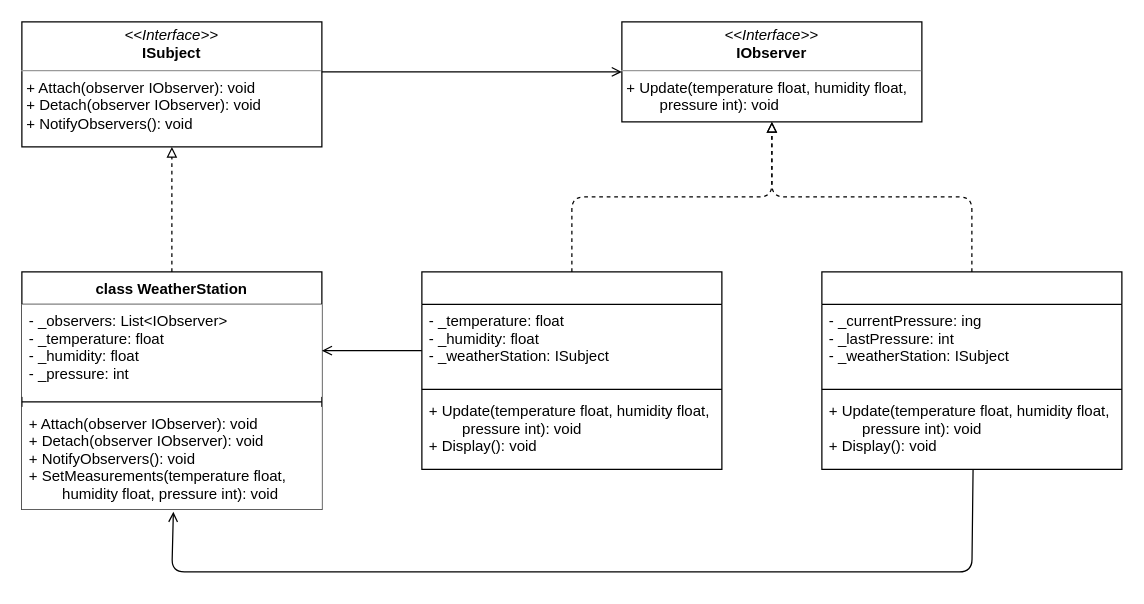
This 1144x604 diagram has some shape labels left out. Each missing label, with the box of its shape:
class CurrentWeatherDisplay: (421, 271, 722, 469)
class ForecastDisplay: (821, 271, 1122, 469)
